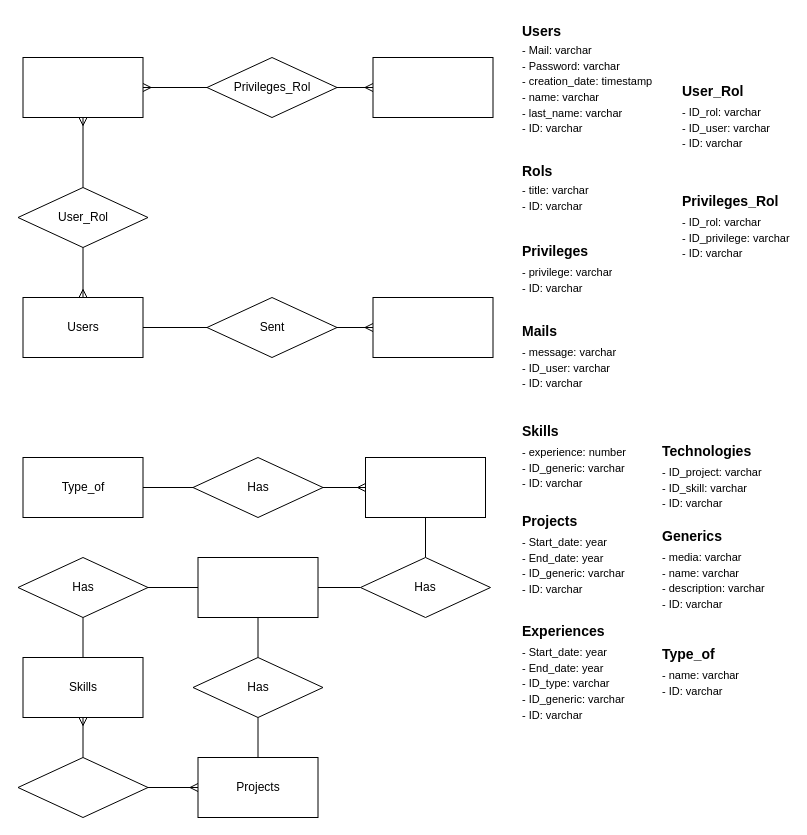
This 807x835 diagram has some shape labels left out. Here are the shapes that lost their labels. From the top down, the centre of each, then its label:
At point (82, 87): "Rols".
At point (432, 87): "Privileges".
At point (432, 327): "Mails".
At point (425, 487): "Experiences".
At point (257, 587): "Generics".
At point (82, 787): "technologies".
